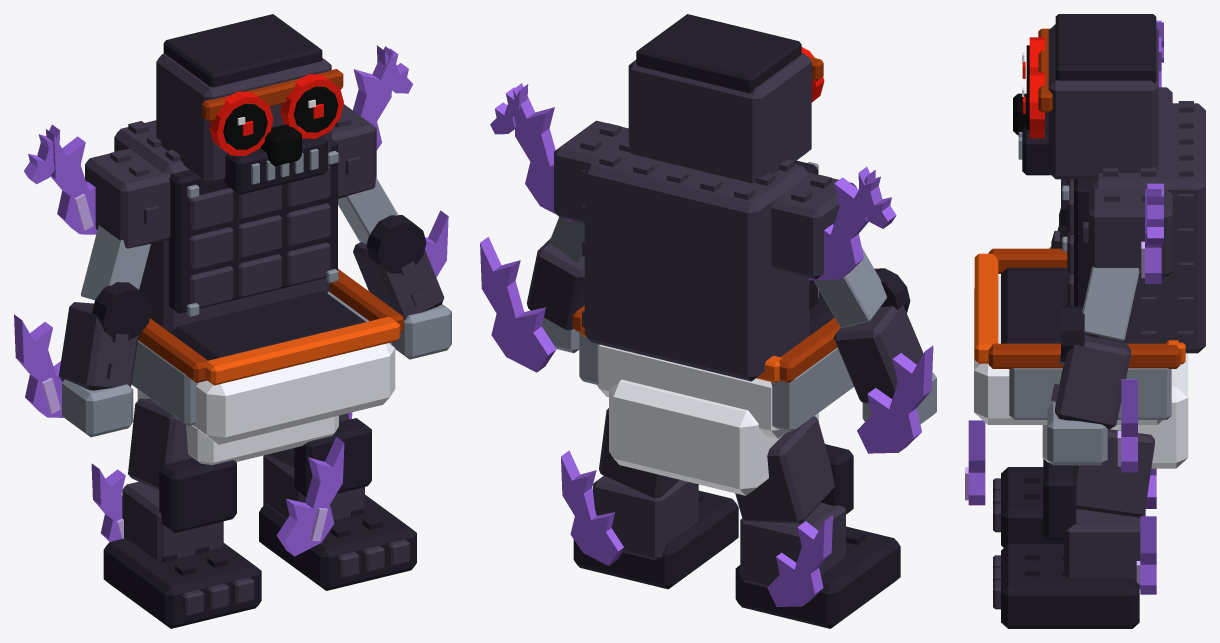
Rendered from ToilettoFocaccino.glb.
3 views of the same model, side by side, from view 1: azimuth 30°, elevation 25°; view 2: azimuth 150°, elevation 25°; view 3: azimuth 270°, elevation 25° (orthographic). The views are drawn at different scales.
Parts seen in each view (by area): view 1: ToilettoFocaccino; view 2: ToilettoFocaccino; view 3: ToilettoFocaccino.
Boxes of the visible parts, <box> form: ToilettoFocaccino: <box>14,14,451,628</box>; ToilettoFocaccino: <box>480,14,936,628</box>; ToilettoFocaccino: <box>965,14,1205,628</box>.
Size of the model in its own units: 4.29 by 5 by 2.06.
Materials: 1 (1 with a texture image).
